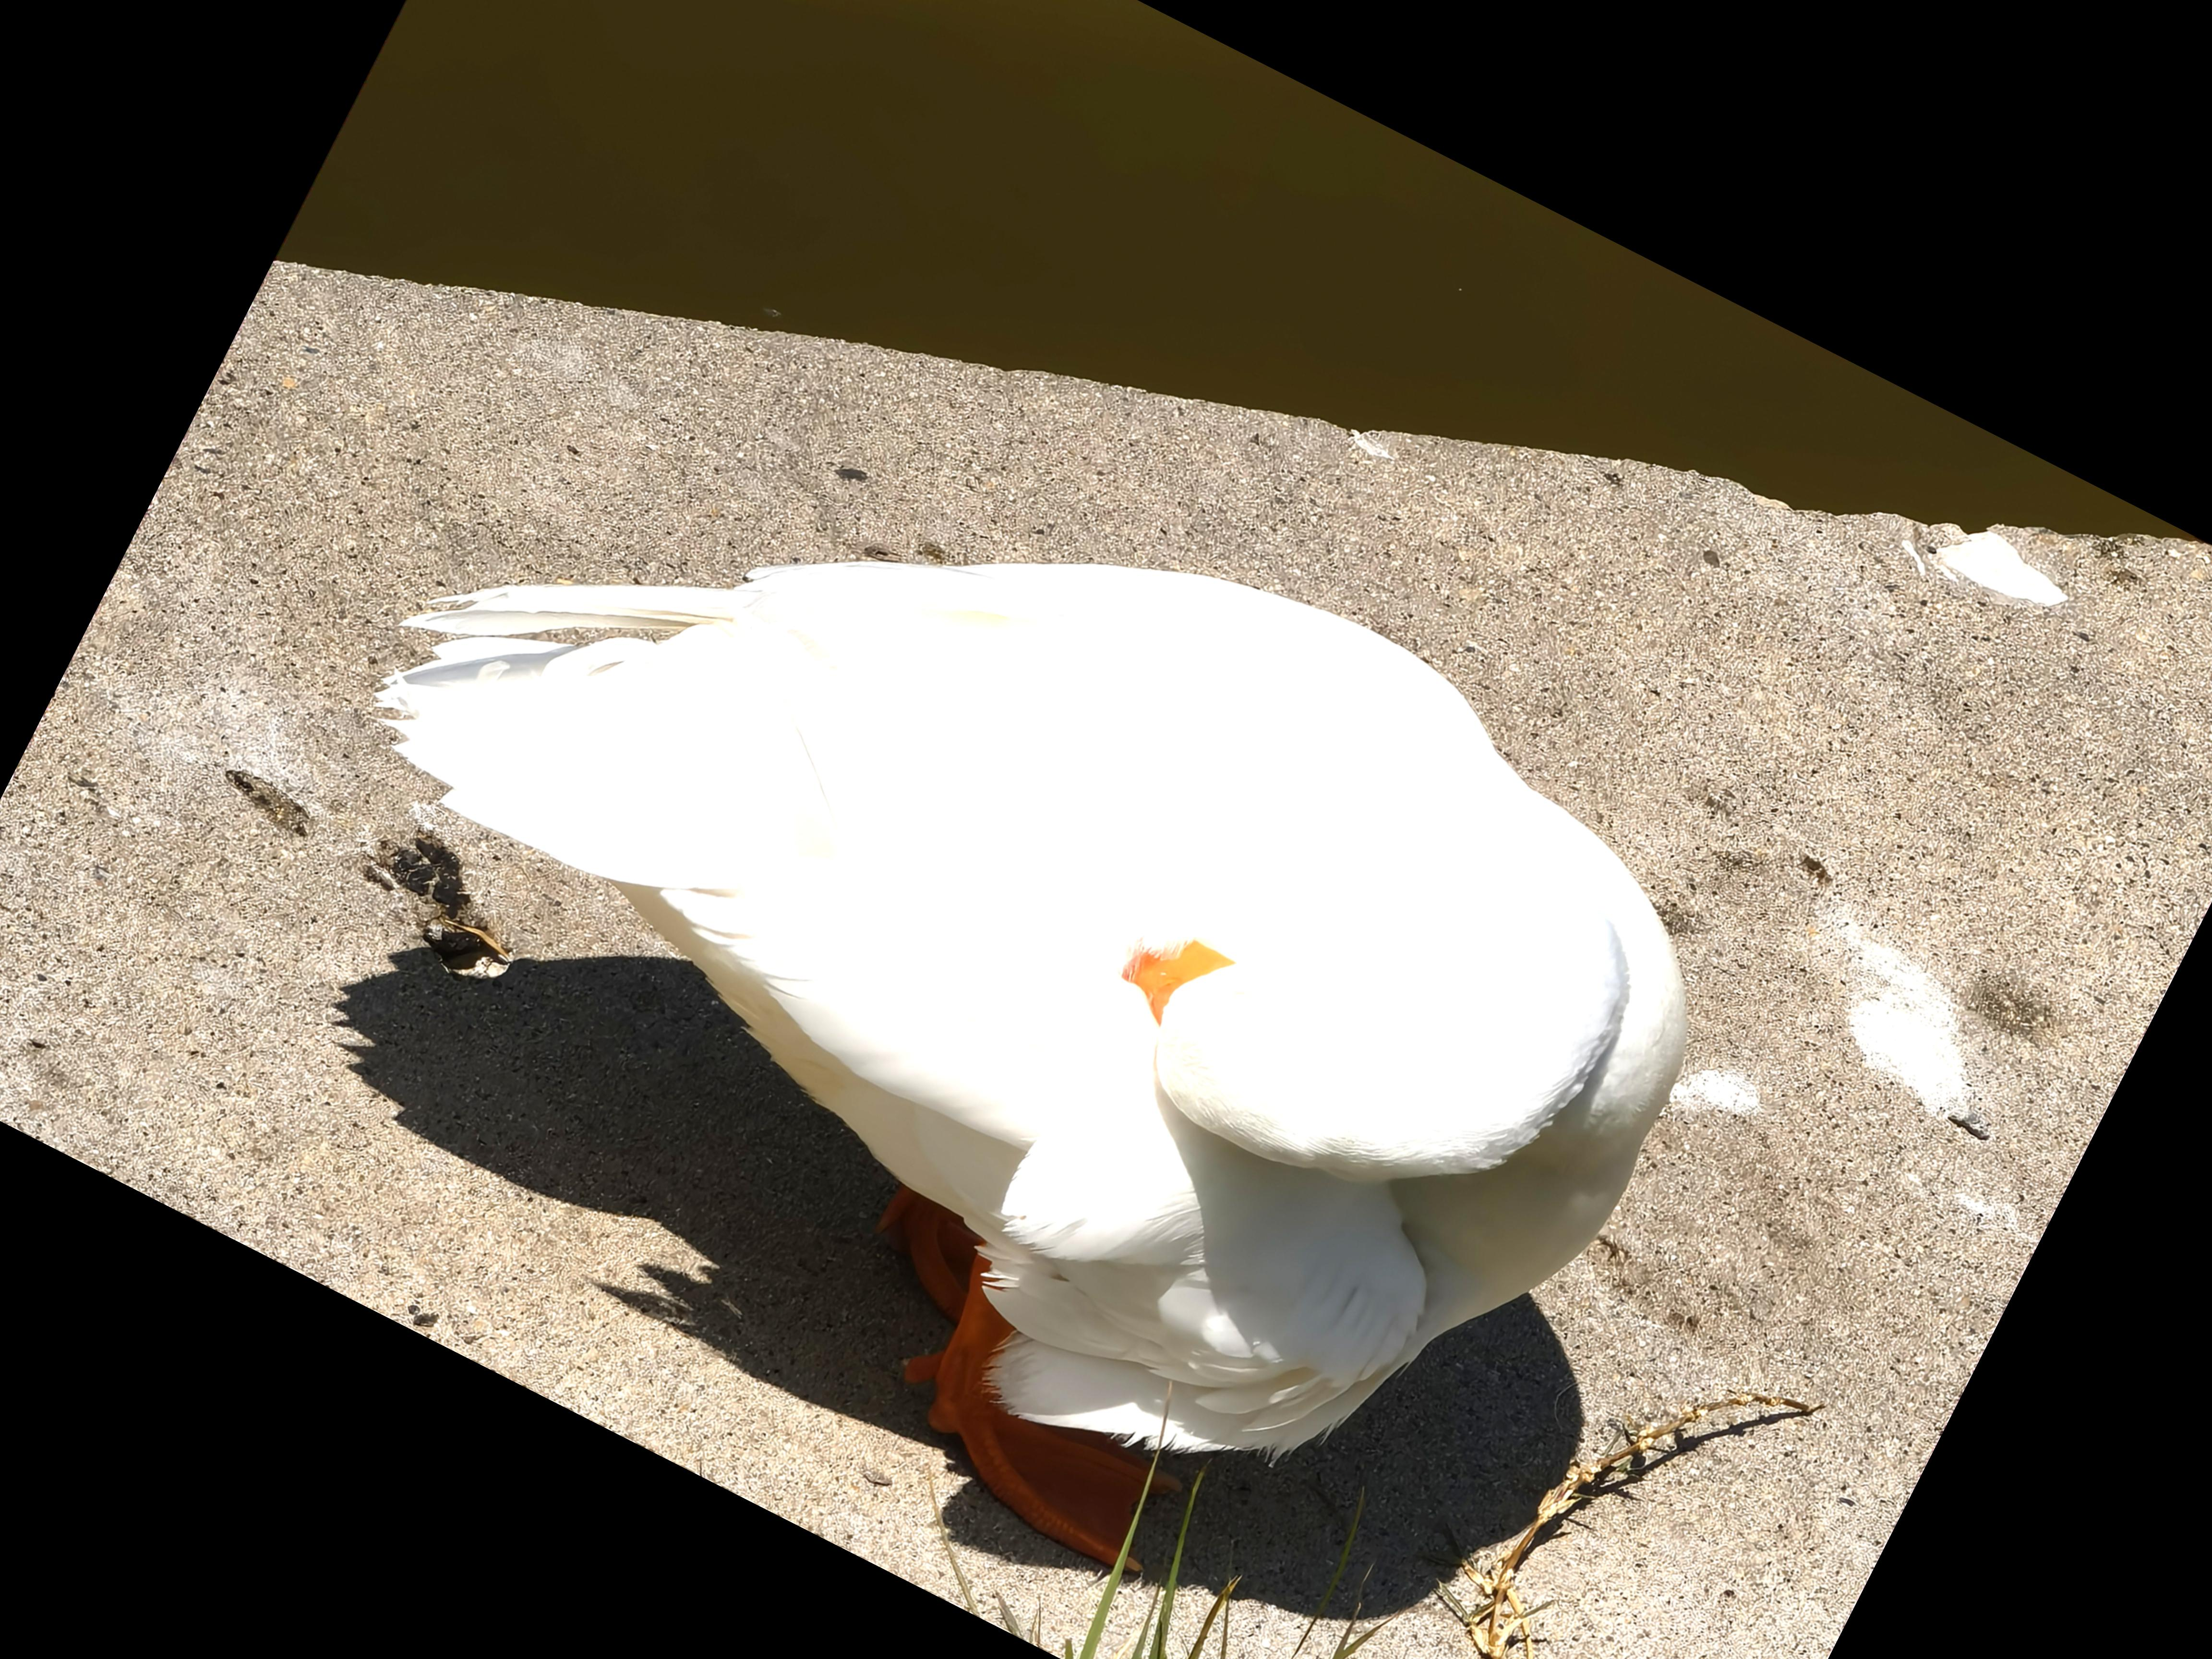duck: (145, 190, 1853, 1659)
